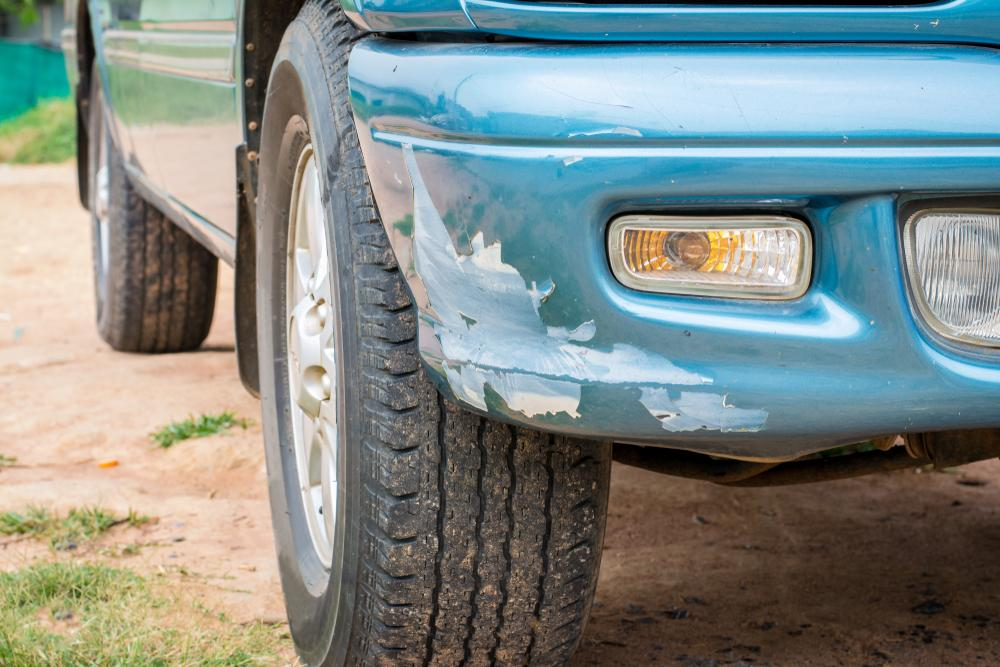scratch: (404, 147, 796, 437)
